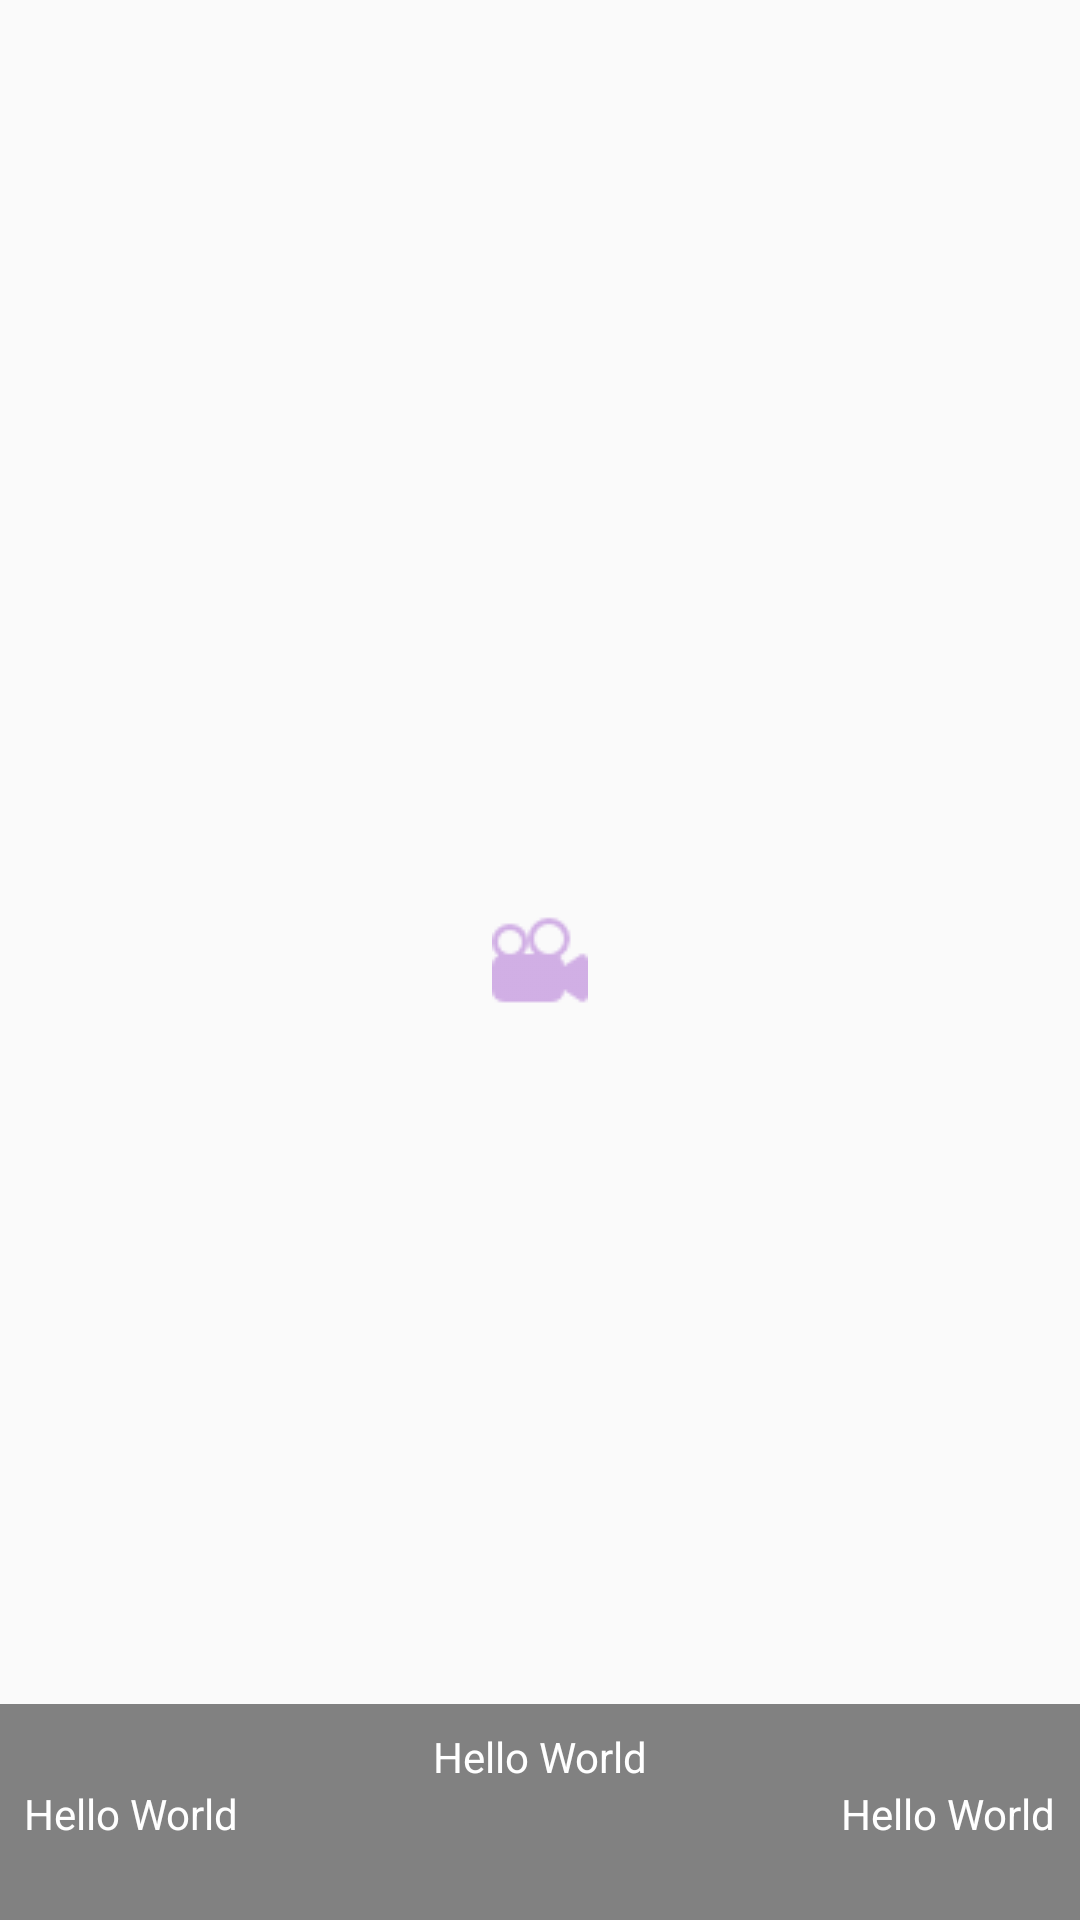

Named icons in this screenshot (1080 × 1920) and their centers, [x,y]:
movie symbol: [540,960]
